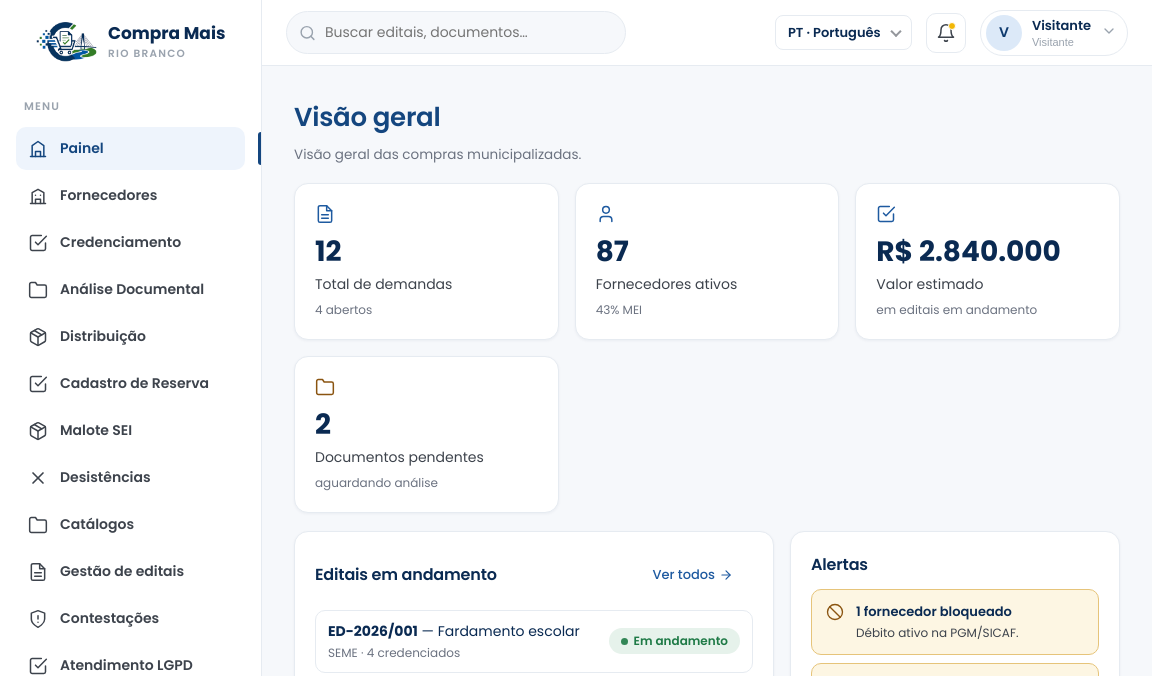
Test case: Painel administrativo · Visão geral (dashboard) › o sino da topbar reflete os mesmos alertas operacionais
The image size is (1152, 676).
expect the element with test id "notif-alerta" is shown: met, box left=948, top=22, right=956, bottom=30
Click the button with test id "notificacoes": (946, 33) left=926, top=13, right=966, bottom=53
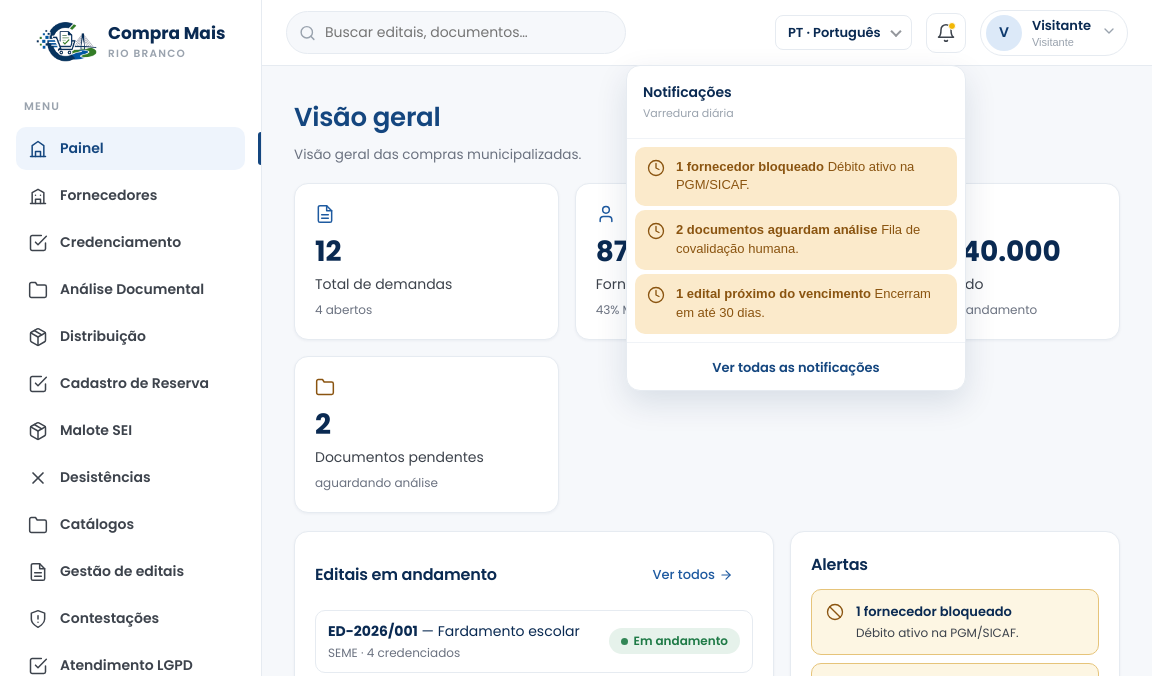
expect the number of buttons with test id "notif-item" is more than 0: met
